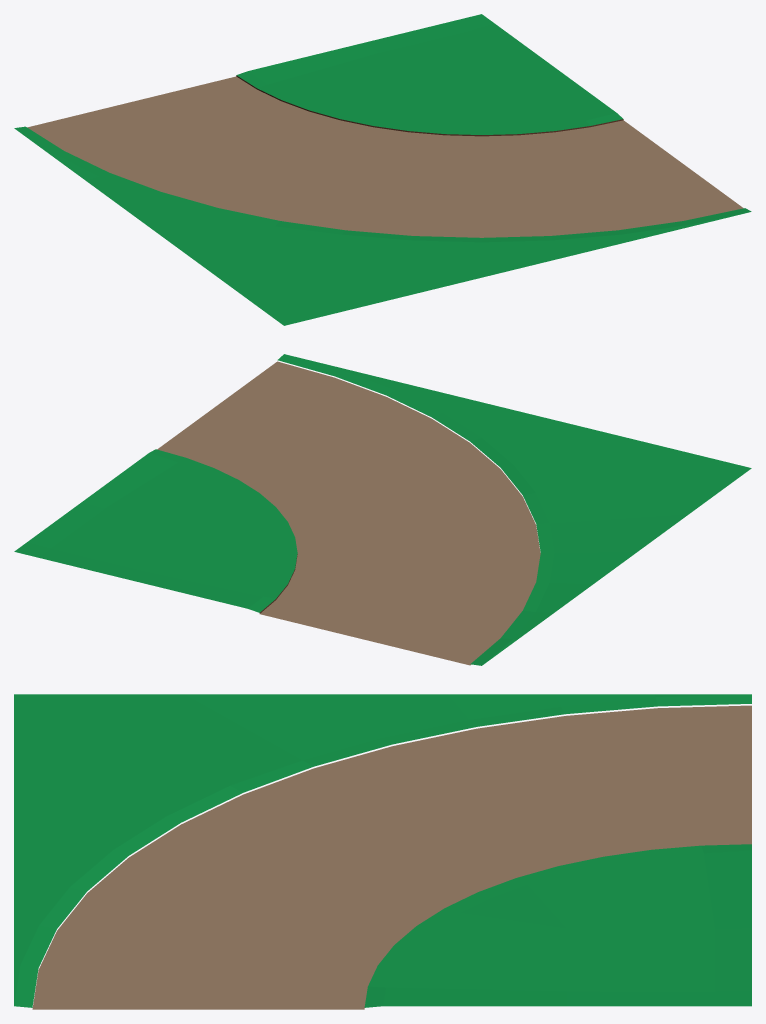
Rendered from Gravel_bend_L.fbx.
3 renders of one model, top to bottom at view 1: azimuth 30°, elevation 25°; view 2: azimuth 150°, elevation 25°; view 3: azimuth 270°, elevation 25°, orthographic. The views are drawn at different scales.
Parts seen in each view (by area): view 1: Plane.001; view 2: Plane.001; view 3: Plane.001.
Boxes of the visible parts, x1,y1,x2,y2 form: Plane.001: (14,14,751,325); Plane.001: (14,354,751,665); Plane.001: (14,694,751,1009).
Size of the model in its own units: 40 by 0.2 by 40.
